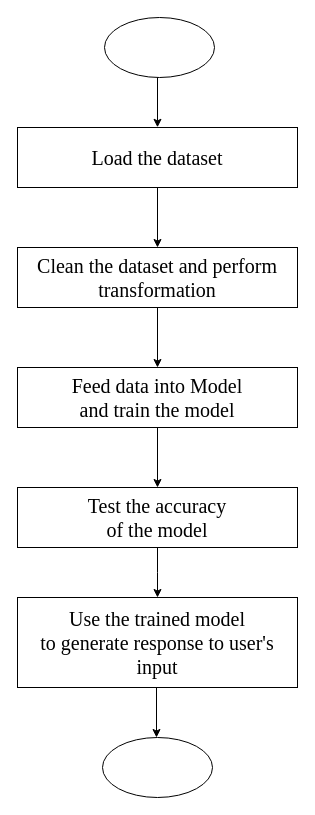
This 315x815 diagram has some shape labels left out. The shapes that lost their labels are listed below. From the top down, each one's box as (x1, y1, x2, y2) in pixels, then its label:
(104, 16, 214, 78): Start
(102, 736, 212, 798): Stop
